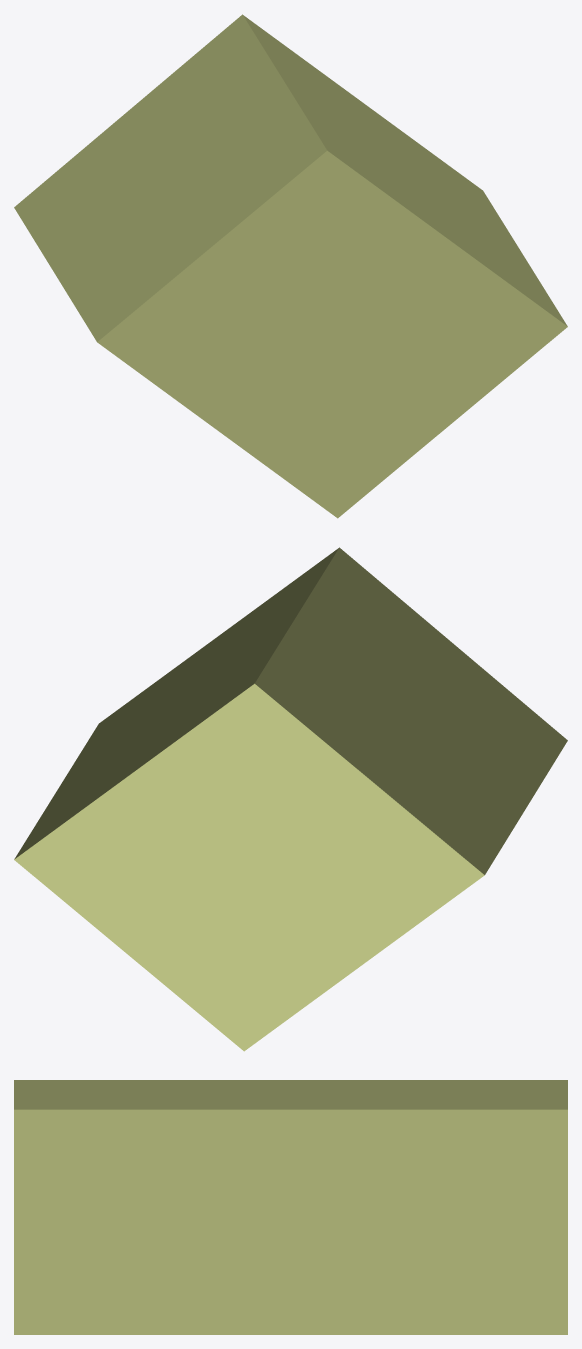
3 renders of one model, top to bottom at view 1: azimuth 30°, elevation 25°; view 2: azimuth 150°, elevation 25°; view 3: azimuth 270°, elevation 25°, orthographic. The views are drawn at different scales.
Visible parts, largest first — view 1: 0_1_1_3_2_2_3_0_2_3_3; view 2: 0_1_1_3_2_2_3_0_2_3_3; view 3: 0_1_1_3_2_2_3_0_2_3_3.
Part boxes in pixels (left/top/right/bottom): 0_1_1_3_2_2_3_0_2_3_3: left=14, top=14, right=567, bottom=518; 0_1_1_3_2_2_3_0_2_3_3: left=14, top=547, right=567, bottom=1051; 0_1_1_3_2_2_3_0_2_3_3: left=14, top=1080, right=567, bottom=1334.
Bounding box in the file's own units: 6.76 × 6.03 × 9.
